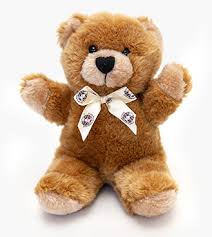teddy: (14, 7, 207, 225)
